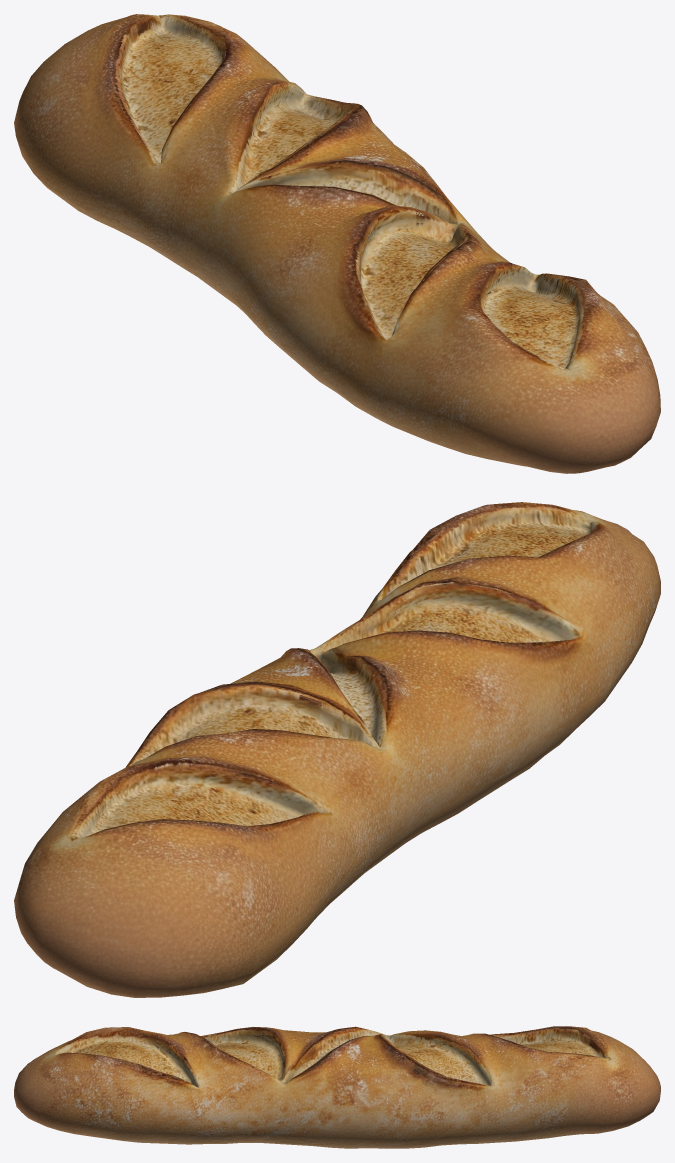
File: baguette.glb
3 views of the same model, one above another, from view 1: azimuth 30°, elevation 25°; view 2: azimuth 150°, elevation 25°; view 3: azimuth 270°, elevation 25° (orthographic). The views are drawn at different scales.
Visible parts, largest first — view 1: tripo_node_148ed998-2f9e-4159-9e08-bc0e19ae6ce0; view 2: tripo_node_148ed998-2f9e-4159-9e08-bc0e19ae6ce0; view 3: tripo_node_148ed998-2f9e-4159-9e08-bc0e19ae6ce0.
Boxes of the visible parts, x1,y1,x2,y2 form: tripo_node_148ed998-2f9e-4159-9e08-bc0e19ae6ce0: [14, 14, 660, 473]; tripo_node_148ed998-2f9e-4159-9e08-bc0e19ae6ce0: [14, 502, 660, 997]; tripo_node_148ed998-2f9e-4159-9e08-bc0e19ae6ce0: [14, 1026, 660, 1148].
Bounding box in the file's own units: 0.2637 × 0.1699 × 0.998.
1 material, 1 textured.
